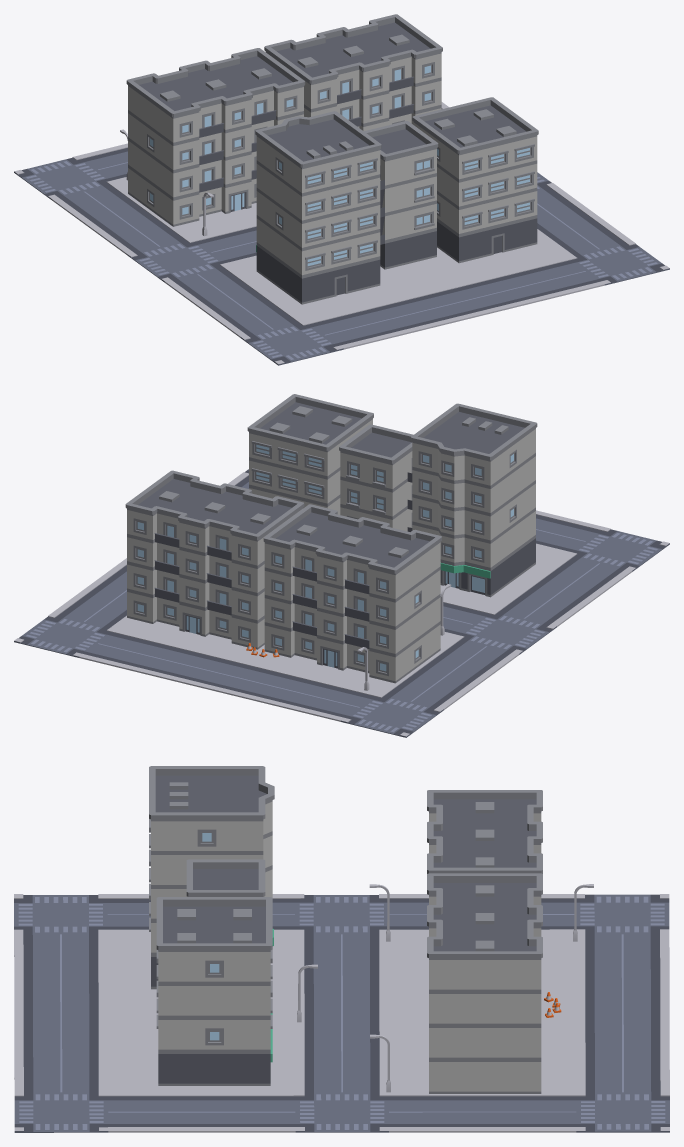
The model's file is city_block7.fbx.
The picture shows the model from 3 angles, top to bottom: view 1: azimuth 30°, elevation 25°; view 2: azimuth 150°, elevation 25°; view 3: azimuth 270°, elevation 25°; orthographic projection. The views are drawn at different scales.
Visible parts, largest first — view 1: large_buildingA, large_buildingE, large_buildingD, large_buildingA__1_, large_buildingC, road_straight__16_, road_straight__18_, road_straight__17_, road_straight__19_, road_crossroadPath__5_, road_crossroadPath__4_, road_straight__5_ (+15 smaller); view 2: large_buildingA, large_buildingA__1_, large_buildingE, large_buildingD, large_buildingC, road_straight__10_, road_straight__8_, road_straight__9_, road_straight__11_, road_crossroadPath__2_, road_crossroadPath__3_, road_straight__4_ (+15 smaller); view 3: large_buildingA__1_, large_buildingD, large_buildingE, large_buildingA, road_straight__14_, road_straight__15_, road_crossroadPath__4_, road_crossroadPath__3_, road_crossroadPath__1_, road_straight__9_, road_straight__11_, road_crossroadPath__2_ (+35 smaller).
Boxes of the visible parts, left/top/right/bottom form: large_buildingA: left=126, top=48, right=305, bottom=226; large_buildingE: left=255, top=111, right=381, bottom=304; large_buildingD: left=412, top=97, right=538, bottom=263; large_buildingA__1_: left=264, top=14, right=442, bottom=130; large_buildingC: left=364, top=121, right=438, bottom=269; road_straight__16_: left=502, top=256, right=604, bottom=301; road_straight__18_: left=371, top=288, right=474, bottom=333; road_straight__17_: left=306, top=305, right=408, bottom=349; road_straight__19_: left=437, top=272, right=539, bottom=317; road_crossroadPath__5_: left=240, top=321, right=343, bottom=365; road_crossroadPath__4_: left=567, top=241, right=669, bottom=285; road_straight__5_: left=203, top=293, right=305, bottom=337; large_buildingA: left=263, top=504, right=441, bottom=683; large_buildingA__1_: left=125, top=470, right=304, bottom=649; large_buildingE: left=411, top=403, right=537, bottom=597; large_buildingD: left=247, top=394, right=373, bottom=514; large_buildingC: left=339, top=424, right=413, bottom=531; road_straight__10_: left=144, top=645, right=247, bottom=689; road_straight__8_: left=275, top=677, right=377, bottom=721; road_straight__9_: left=210, top=661, right=312, bottom=705; road_straight__11_: left=79, top=629, right=181, bottom=673; road_crossroadPath__2_: left=341, top=693, right=443, bottom=737; road_crossroadPath__3_: left=14, top=613, right=116, bottom=657; road_straight__4_: left=492, top=582, right=594, bottom=626; large_buildingA__1_: left=427, top=873, right=542, bottom=1093; large_buildingD: left=156, top=897, right=272, bottom=1085; large_buildingE: left=149, top=766, right=274, bottom=989; large_buildingA: left=427, top=790, right=542, bottom=873; road_straight__14_: left=201, top=1091, right=295, bottom=1132; road_straight__15_: left=108, top=1091, right=201, bottom=1132; road_crossroadPath__4_: left=14, top=1091, right=108, bottom=1132; road_crossroadPath__3_: left=576, top=1091, right=669, bottom=1132; road_crossroadPath__1_: left=295, top=1091, right=388, bottom=1132; road_straight__9_: left=576, top=973, right=669, bottom=1013; road_straight__11_: left=576, top=1052, right=669, bottom=1092; road_crossroadPath__2_: left=576, top=894, right=669, bottom=934.
Bounding box in the file's own units: 601 × 208 × 701.
